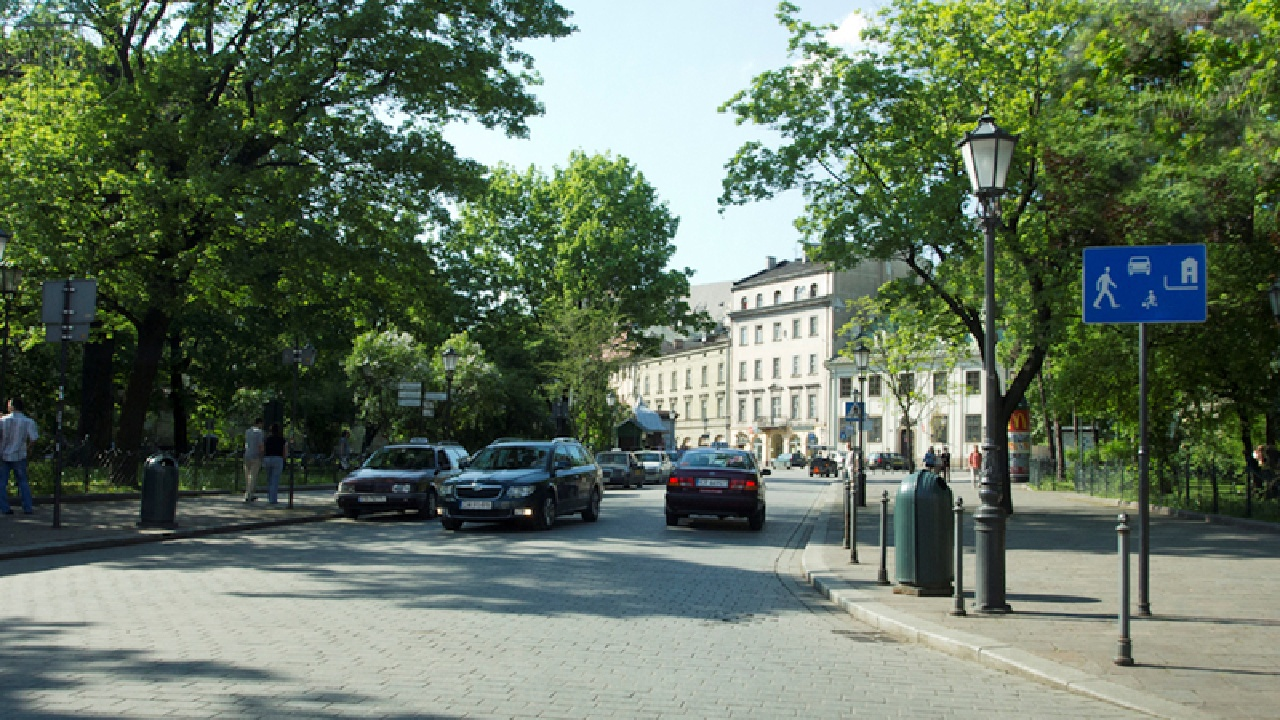D40: (1081, 243, 1207, 323)
